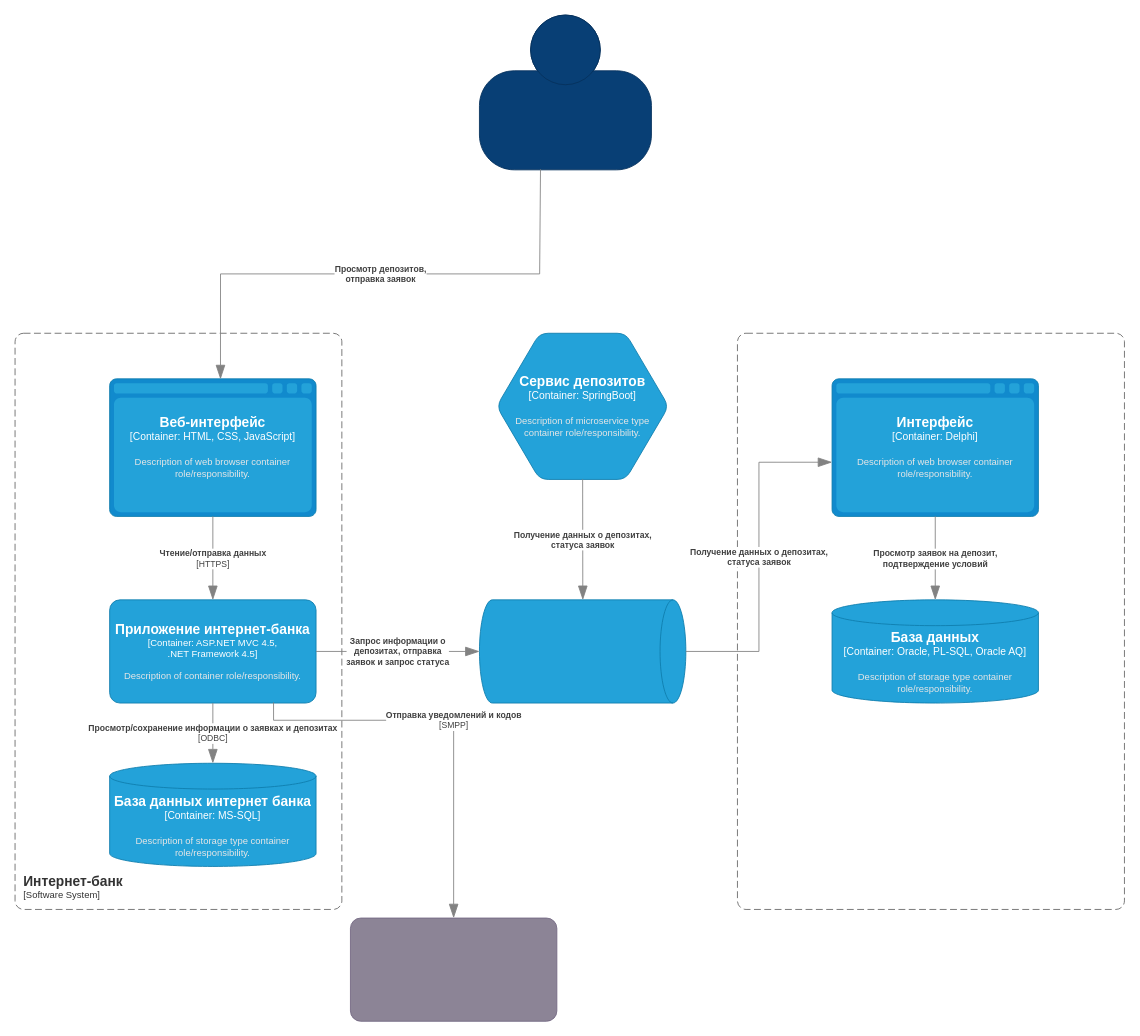
Image size: 1140x1036. Some labels were removed from this diagram. The shapes that lost their labels are listed below. From the top down, each one's box as (x1, y1, x2, y2) in pixels, then its label:
(479, 14, 651, 170): Клиент [Person] Description of person.
(737, 332, 1124, 909): АБС [Software System]
(479, 599, 686, 703): Message bus [: Apache Kafka]
(350, 917, 557, 1021): СМС-шлюз [Software System] Description of external software system.
